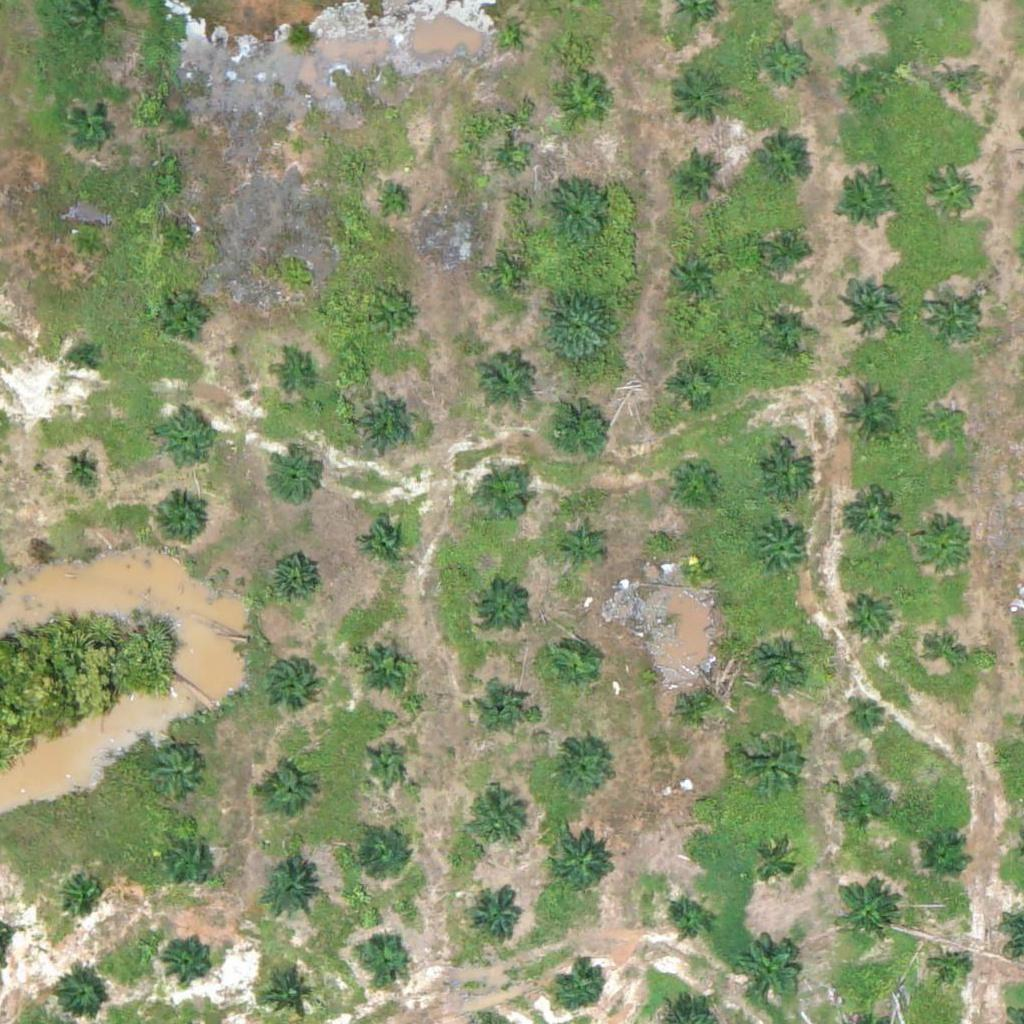Kelapa_Sawit: (538, 174, 613, 250), (542, 392, 617, 468), (737, 718, 812, 794), (542, 288, 617, 364), (734, 938, 797, 1001), (471, 347, 534, 410), (756, 443, 819, 506), (259, 861, 322, 924), (356, 393, 419, 456), (672, 67, 735, 130), (751, 136, 814, 199), (835, 174, 897, 237), (833, 879, 895, 942), (550, 827, 612, 890), (468, 790, 530, 853), (748, 635, 810, 698), (836, 387, 898, 450), (923, 288, 985, 351), (839, 271, 901, 334), (547, 737, 609, 800), (150, 490, 212, 553), (354, 632, 416, 695), (154, 408, 216, 471), (753, 522, 815, 584), (929, 167, 979, 218), (357, 928, 407, 979), (361, 829, 411, 880), (259, 766, 309, 817), (270, 452, 320, 503), (153, 751, 203, 802), (164, 834, 214, 885), (164, 932, 214, 983), (264, 971, 314, 1022), (267, 553, 317, 604), (358, 517, 408, 568), (160, 289, 210, 340), (933, 61, 983, 112), (845, 59, 895, 110), (763, 36, 813, 87), (472, 894, 522, 944), (553, 961, 603, 1011), (479, 678, 529, 728), (482, 472, 532, 522), (478, 582, 528, 632), (668, 455, 718, 505), (667, 359, 717, 409), (849, 490, 899, 540), (919, 522, 969, 572), (832, 785, 882, 835), (545, 638, 595, 688), (264, 656, 314, 706), (55, 972, 105, 1022), (560, 80, 610, 130), (918, 832, 968, 882), (749, 841, 799, 891), (664, 898, 714, 948), (672, 681, 722, 731), (58, 868, 108, 918), (761, 225, 811, 275), (763, 309, 813, 359), (669, 245, 719, 295), (674, 150, 724, 200), (844, 594, 894, 644), (68, 99, 118, 149), (560, 528, 598, 566), (273, 358, 311, 396), (934, 953, 972, 991), (847, 696, 885, 734), (924, 407, 962, 445), (928, 632, 966, 670), (378, 301, 415, 339), (367, 745, 404, 783), (65, 449, 102, 487), (69, 225, 107, 262), (162, 219, 199, 257), (500, 265, 525, 291), (493, 20, 518, 45), (498, 148, 523, 173), (381, 191, 406, 216), (681, 556, 706, 581), (688, 791, 713, 816), (71, 346, 96, 371), (287, 136, 312, 161)
